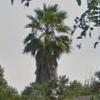Palm tree: (17, 4, 79, 74)
